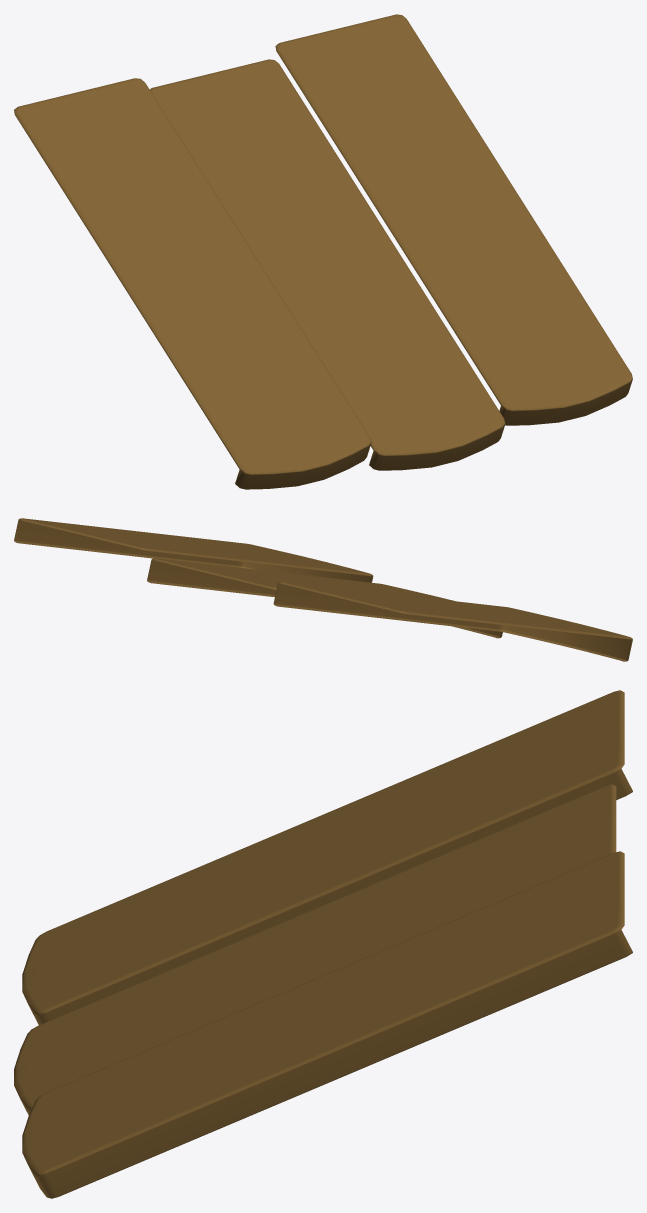
Rendered from ShackRoof_UVMap.fbx.
The picture shows the model from 3 angles, top to bottom: view 1: azimuth 30°, elevation 25°; view 2: azimuth 150°, elevation 25°; view 3: azimuth 270°, elevation 25°; orthographic projection. The views are drawn at different scales.
Visible parts, largest first — view 1: ShackRoofSlab1, ShackRoofSlab3, ShackRoofSlab2; view 2: ShackRoofSlab1, ShackRoofSlab3, ShackRoofSlab2; view 3: ShackRoofSlab3, ShackRoofSlab1, ShackRoofSlab2.
Boxes of the visible parts, x1,y1,x2,y2 form: ShackRoofSlab1: [14, 78, 371, 489]; ShackRoofSlab3: [275, 14, 632, 425]; ShackRoofSlab2: [150, 59, 505, 470]; ShackRoofSlab1: [273, 581, 632, 661]; ShackRoofSlab3: [14, 518, 373, 582]; ShackRoofSlab2: [147, 558, 502, 638]; ShackRoofSlab3: [22, 851, 632, 1198]; ShackRoofSlab1: [22, 690, 632, 1024]; ShackRoofSlab2: [14, 784, 616, 1115].
Size of the model in its own units: 2.14 by 1.21 by 2.32.
